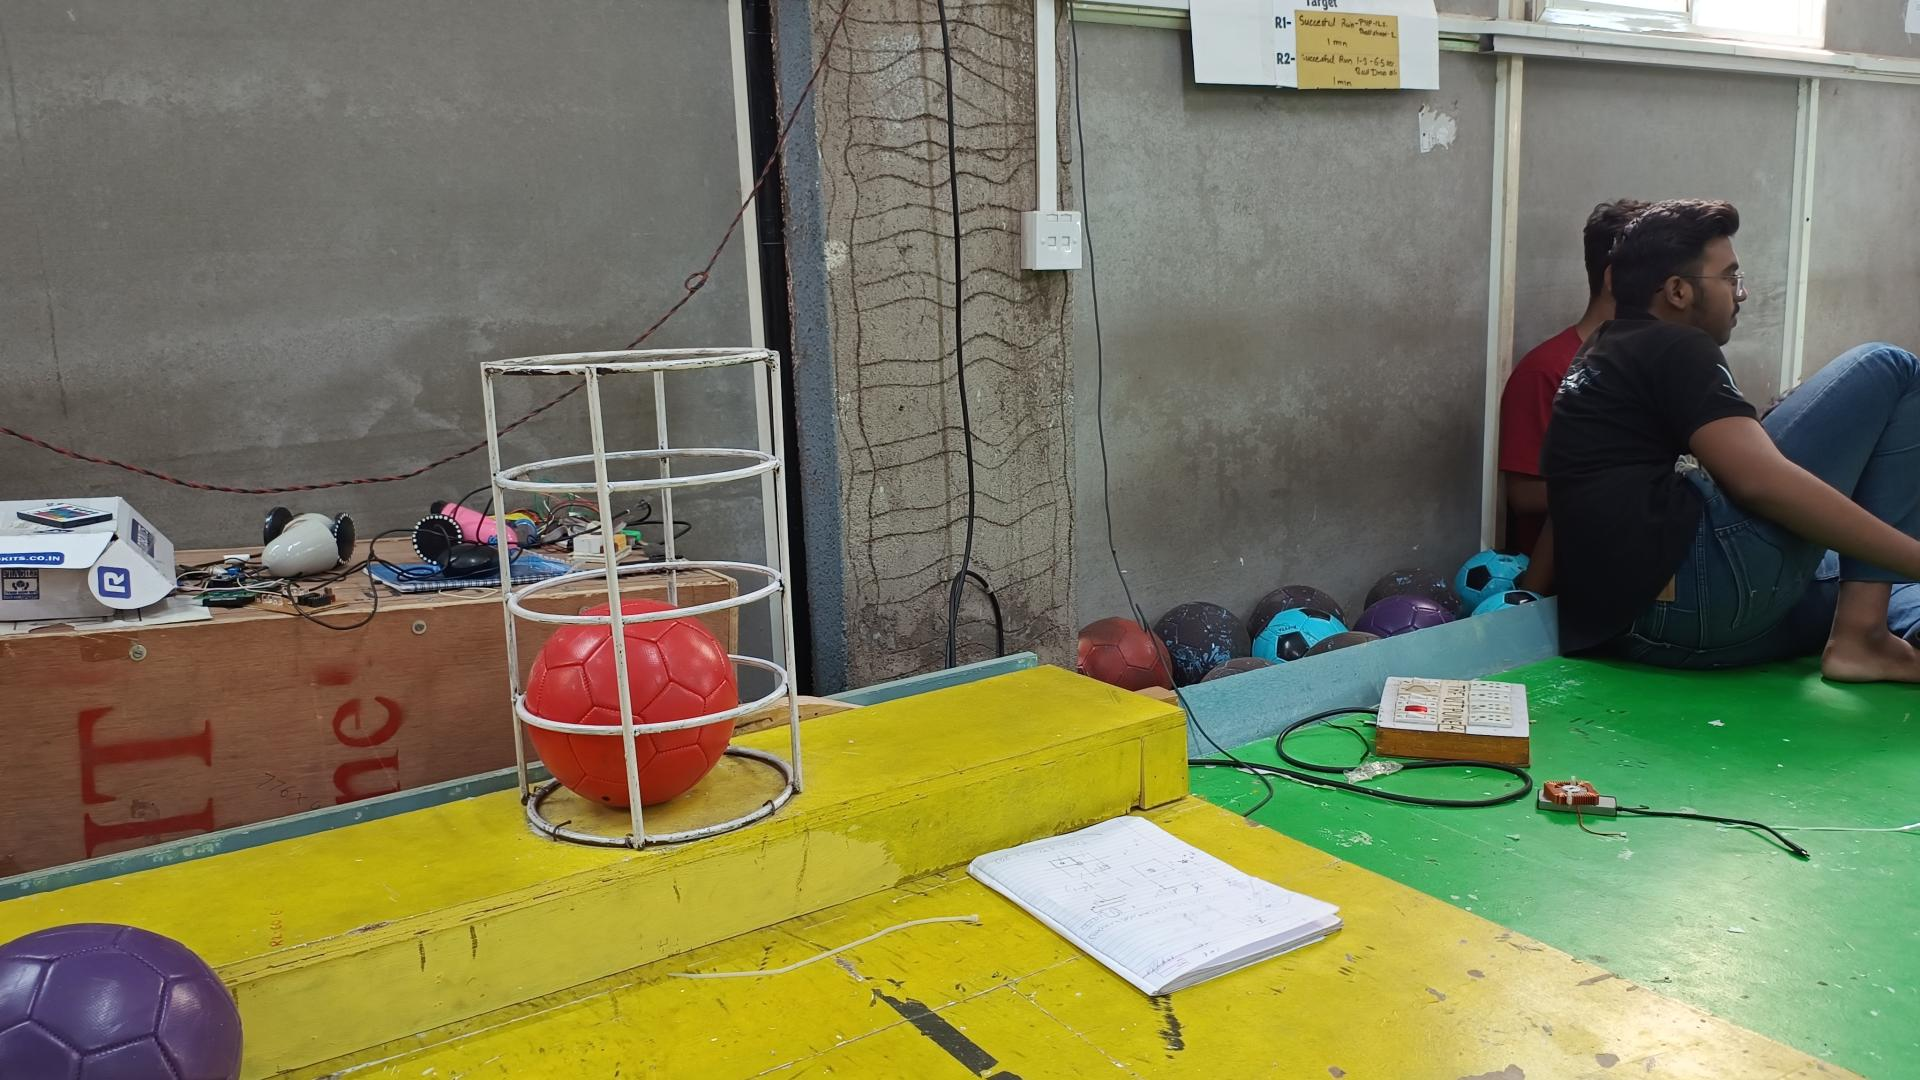laale: (521, 596, 738, 810)
